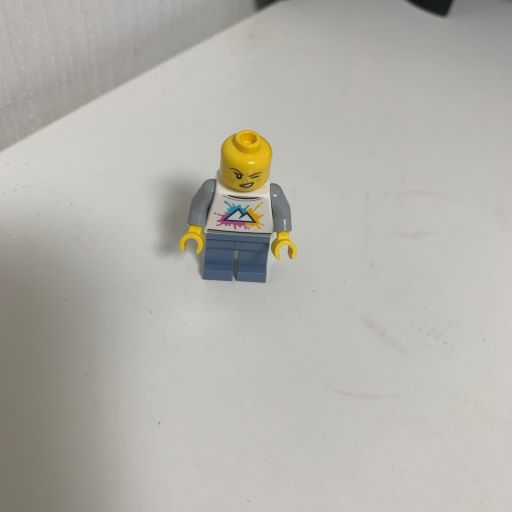human: (165, 124, 303, 297)
